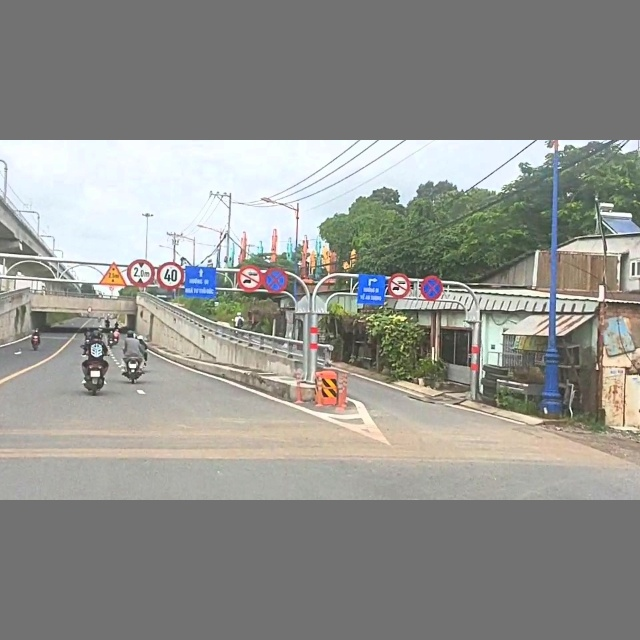P.107: (237, 264, 262, 292), (389, 274, 411, 299)
P.117*: (126, 259, 156, 287)
P.127*40: (158, 261, 185, 290)
P.130: (263, 266, 288, 293), (421, 273, 443, 302)
W.239b*: (99, 261, 127, 287)
